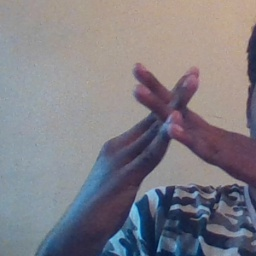W: (112, 50, 225, 181)
